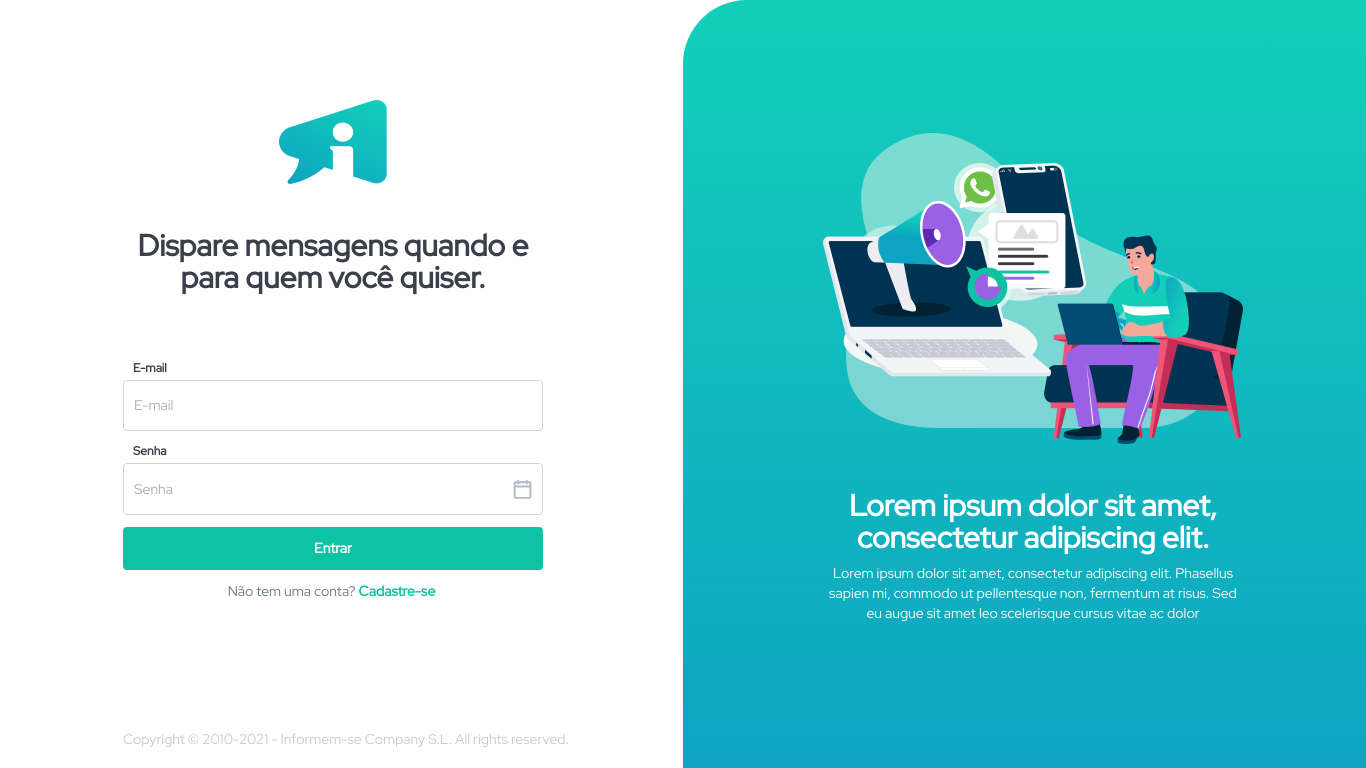
dashboard › navbar › drawer should open
Type "teste@gmail.com" into the field with placeholder "E-mail" at {"x": 333, "y": 406}, box [134, 391, 532, 421]
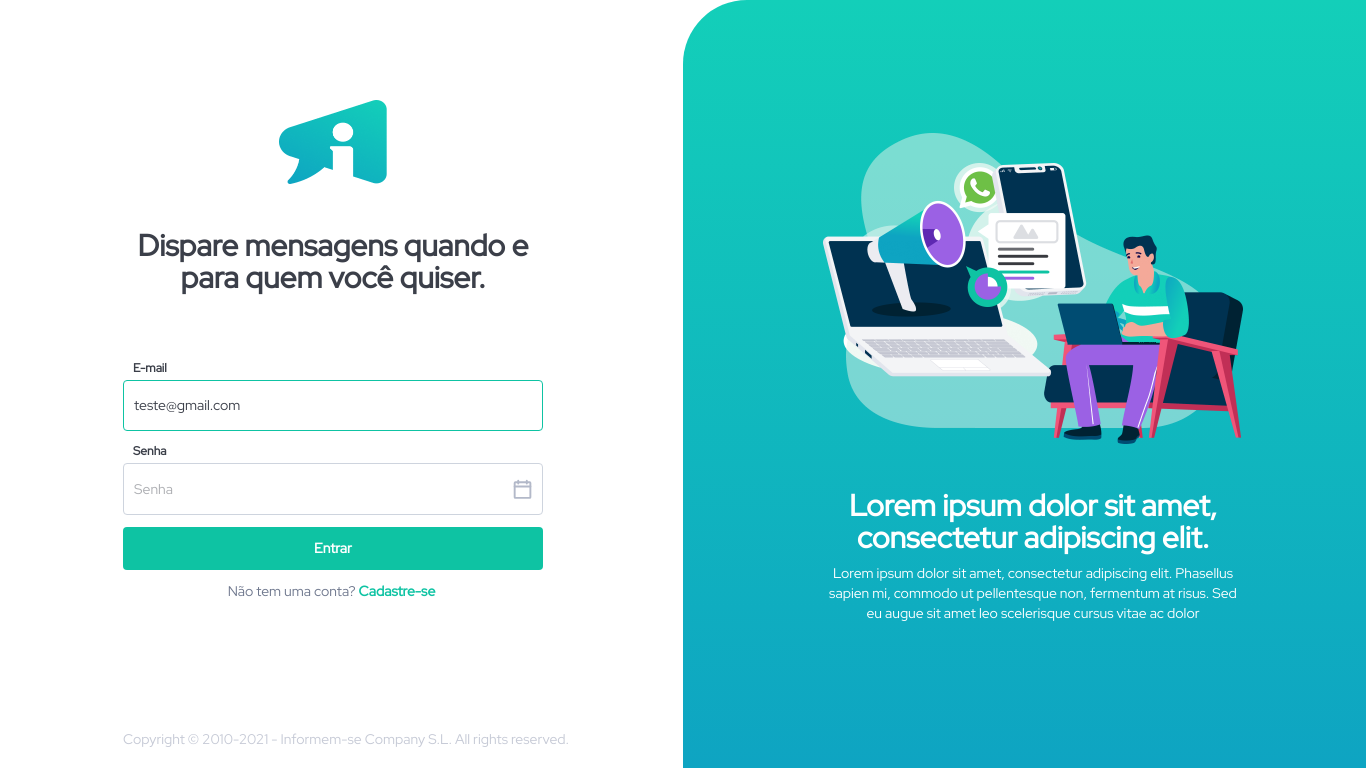
Type "123456789" into the password field with placeholder "Senha" at {"x": 324, "y": 489}, box [134, 474, 513, 504]
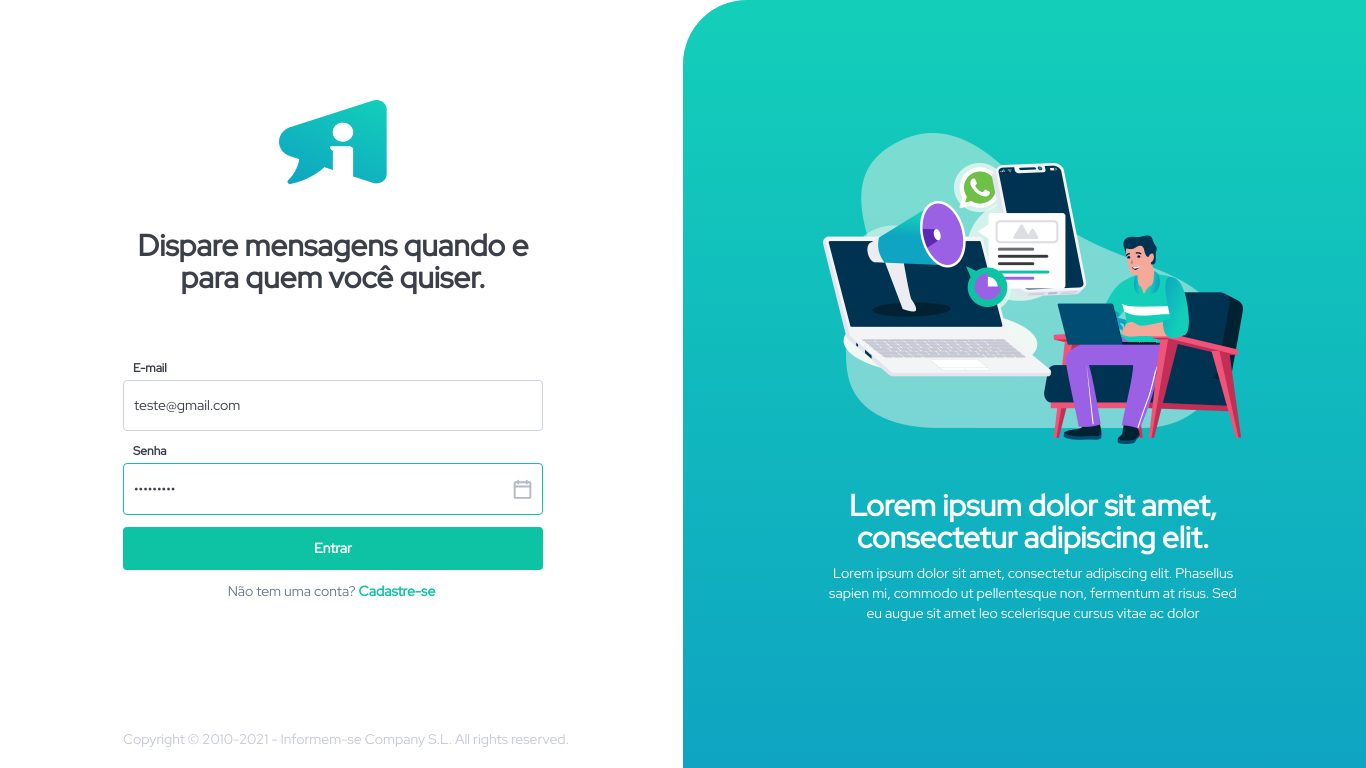
Click the button "Entrar" at {"x": 333, "y": 549}, box [123, 527, 543, 570]
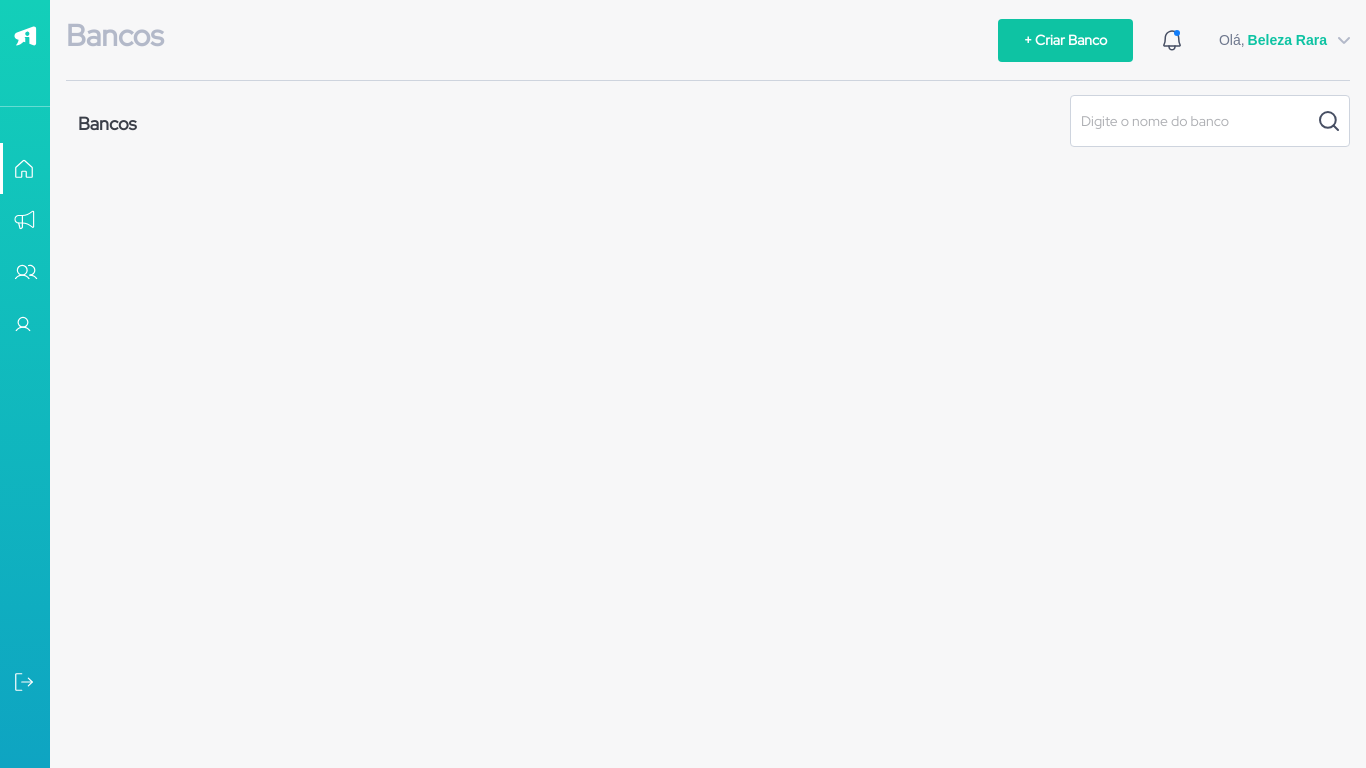
Click the button with test id "navbarLogo" at {"x": 25, "y": 36}, box [0, 24, 50, 48]
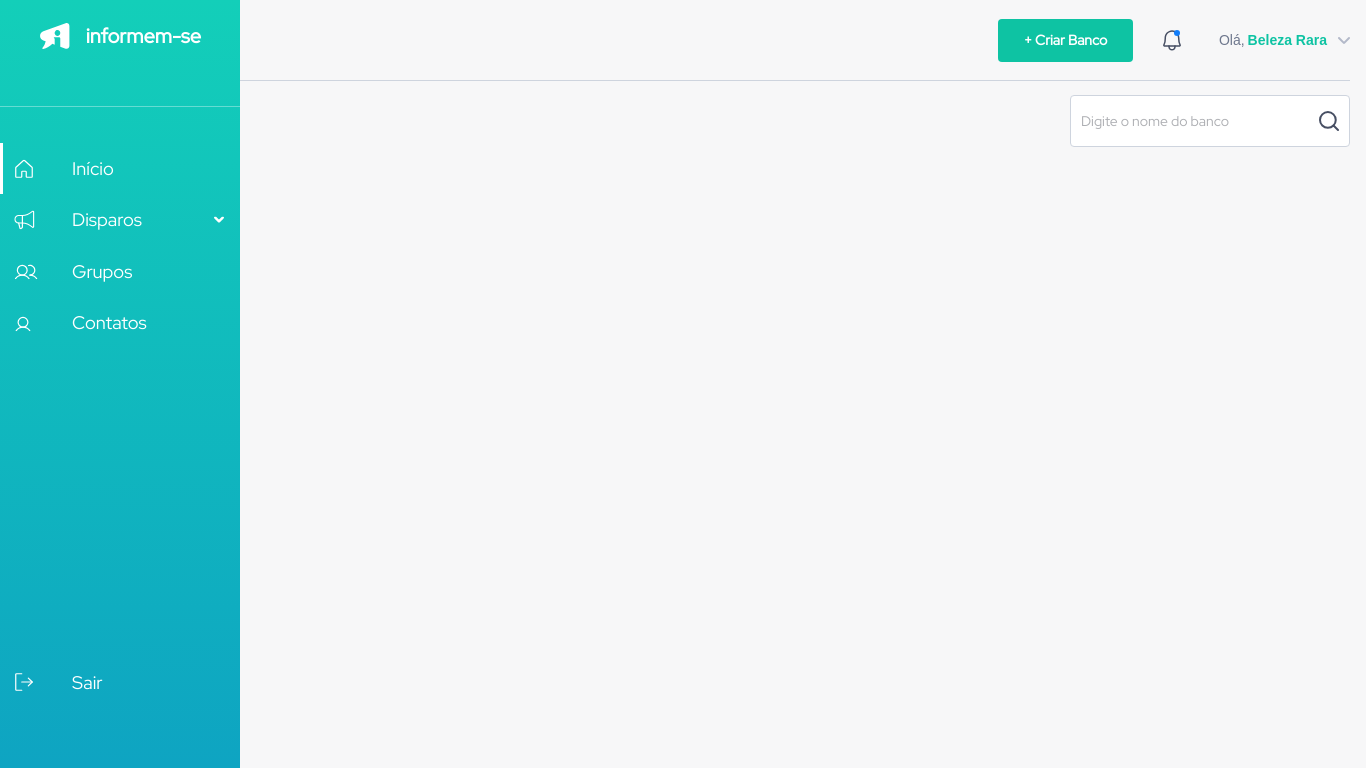
Result: the button "informem-se" is shown at [0, 24, 240, 48]
